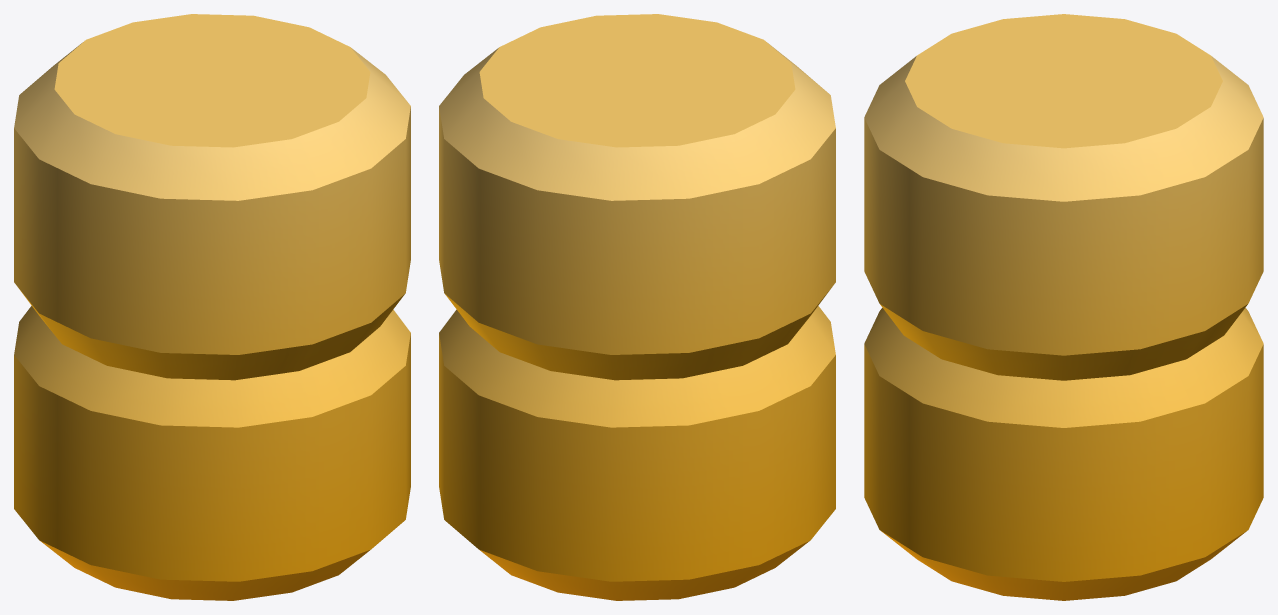
The model's file is Barrier_03.fbx.
3 renders of one model, left to right at view 1: azimuth 30°, elevation 25°; view 2: azimuth 150°, elevation 25°; view 3: azimuth 270°, elevation 25°, orthographic.
Visible parts, largest first — view 1: Barrier_03; view 2: Barrier_03; view 3: Barrier_03.
Boxes of the visible parts, x1,y1,x2,y2 form: Barrier_03: (14,14,410,600); Barrier_03: (439,14,835,600); Barrier_03: (864,14,1263,600).
Bounding box in the file's own units: 150 × 150 × 188.
